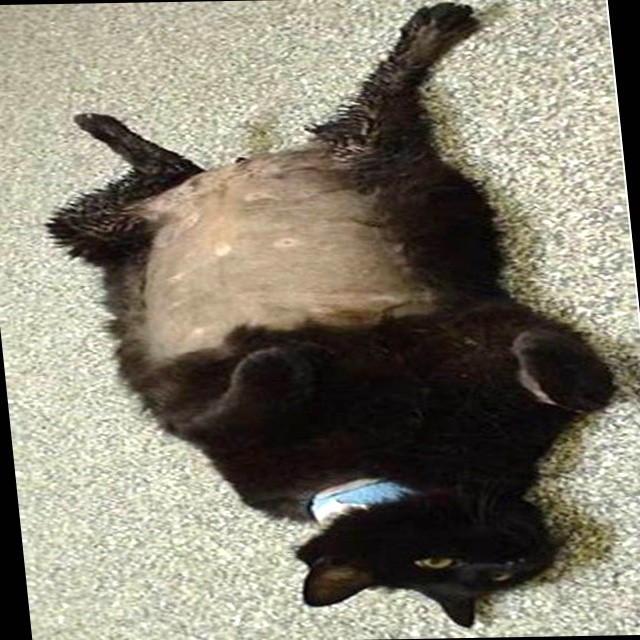hairloss: (131, 155, 377, 360)
